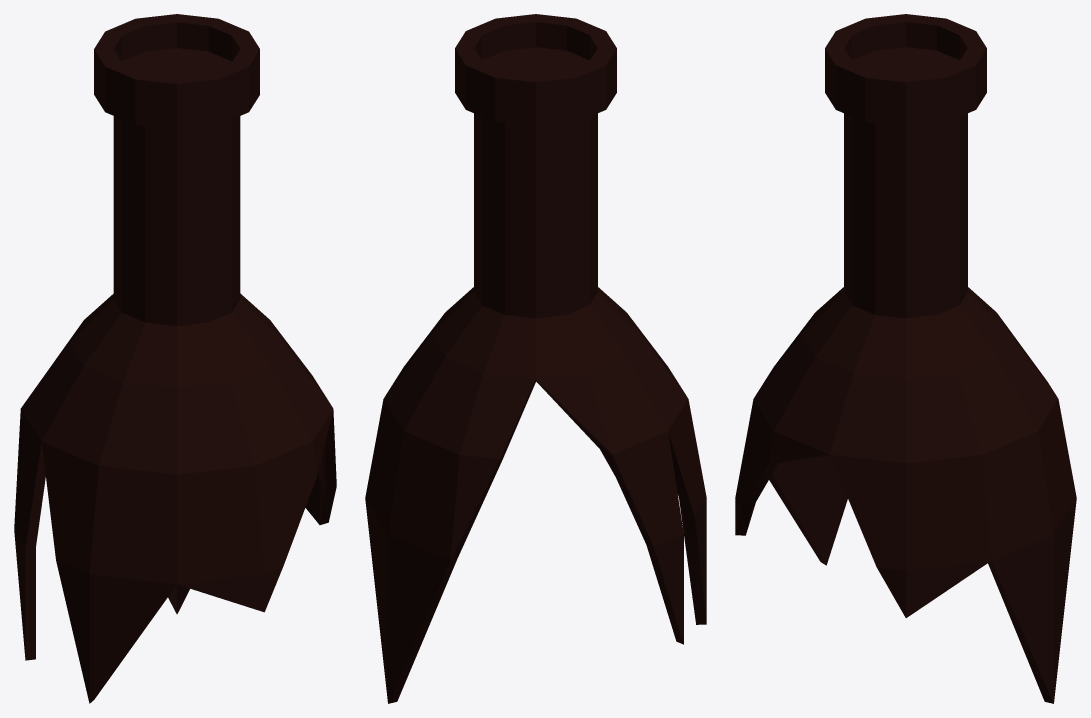
The model's file is bottle1broken2.fbx.
The picture shows the model from 3 angles, left to right: view 1: azimuth 30°, elevation 25°; view 2: azimuth 150°, elevation 25°; view 3: azimuth 270°, elevation 25°; orthographic projection. The views are drawn at different scales.
Parts seen in each view (by area): view 1: bottle_broken2; view 2: bottle_broken2; view 3: bottle_broken2.
Boxes of the visible parts, box(x1,y1,x2,y2) form: bottle_broken2: box(14, 14, 336, 703); bottle_broken2: box(365, 14, 706, 703); bottle_broken2: box(735, 14, 1076, 703).
Size of the model in its own units: 16 by 32.02 by 16.
